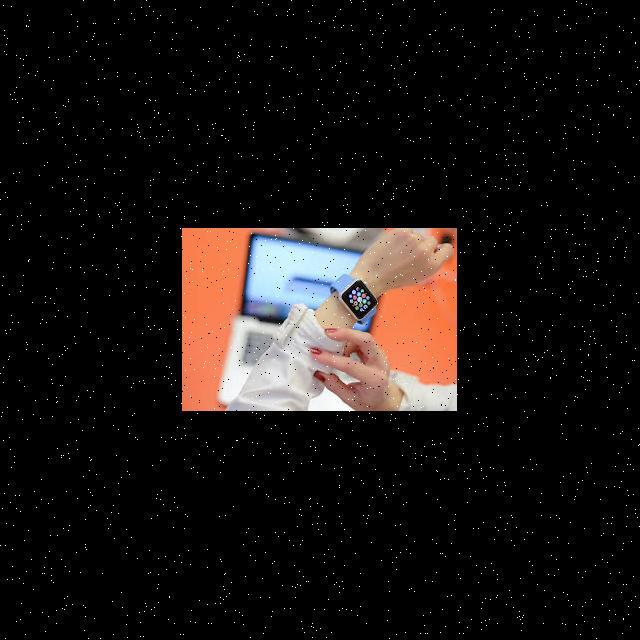laptop_computer: (219, 223, 380, 437)
watch: (325, 267, 400, 345)
